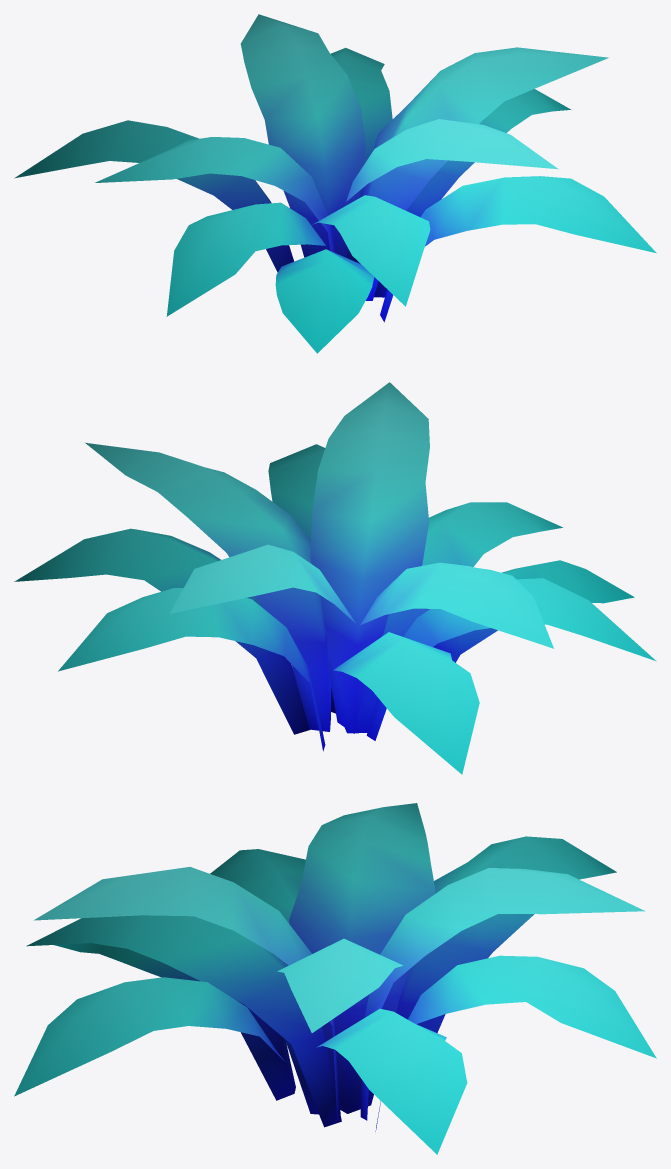
The model's file is SM_Env_Fern_01.gltf.
The picture shows the model from 3 angles, top to bottom: view 1: azimuth 30°, elevation 25°; view 2: azimuth 150°, elevation 25°; view 3: azimuth 270°, elevation 25°; orthographic projection. The views are drawn at different scales.
Parts seen in each view (by area): view 1: SM_Env_Fern_01_LOD0; view 2: SM_Env_Fern_01_LOD0; view 3: SM_Env_Fern_01_LOD0.
Part boxes in pixels (bbox=[...]): SM_Env_Fern_01_LOD0: bbox=[14, 14, 656, 353]; SM_Env_Fern_01_LOD0: bbox=[14, 382, 656, 774]; SM_Env_Fern_01_LOD0: bbox=[14, 803, 656, 1154].
Size of the model in its own units: 2.63 by 1.16 by 2.42.
